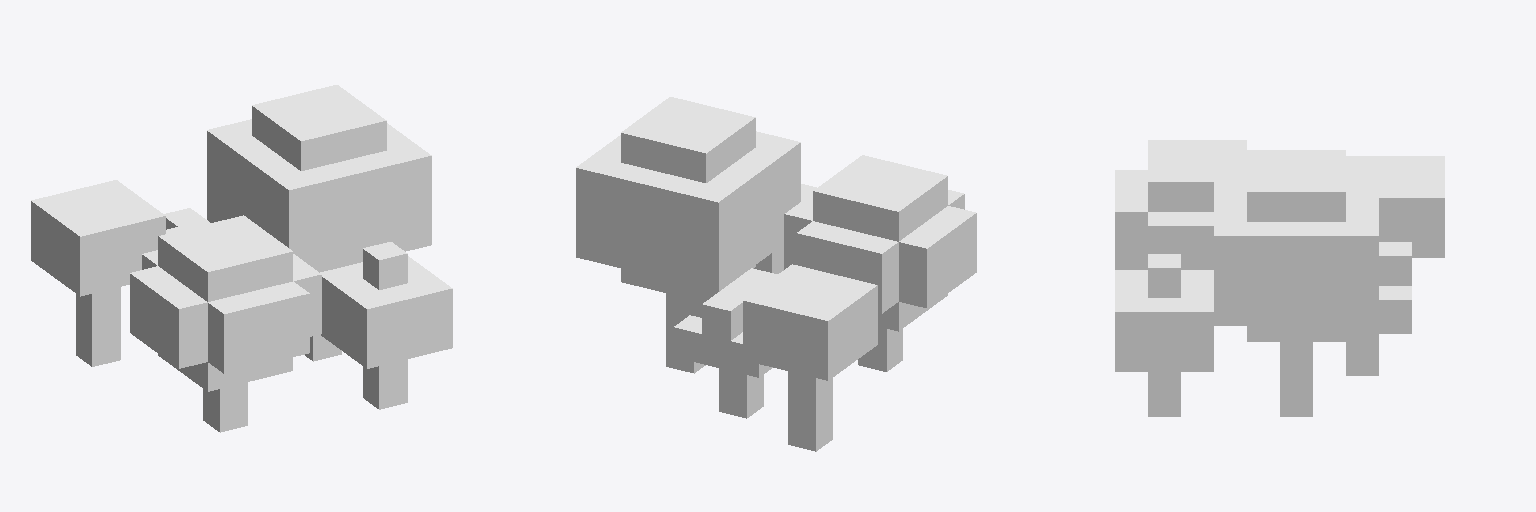
The model's file is Baum-4.obj.
3 renders of one model, left to right at view 1: azimuth 30°, elevation 25°; view 2: azimuth 150°, elevation 25°; view 3: azimuth 270°, elevation 25°, orthographic.
Visible parts, largest first — view 1: object 1; view 2: object 1; view 3: object 1.
Boxes of the visible parts, x1=… form: object 1: x1=31, y1=85, x2=452, y2=432; object 1: x1=576, y1=97, x2=976, y2=451; object 1: x1=1115, y1=140, x2=1444, y2=416.
Size of the model in its own units: 1 by 0.8 by 1.